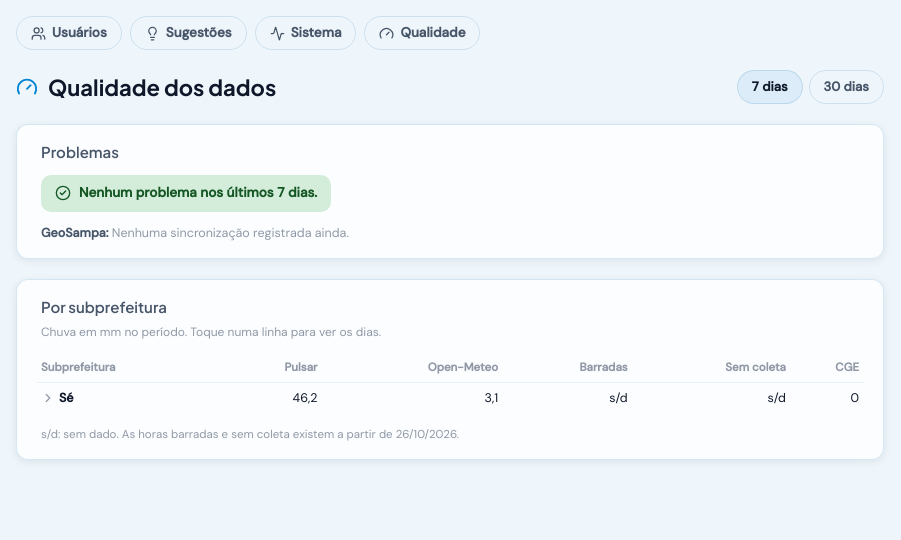
Test: QualidadeAdminPage › abrir a linha mostra os dias, com s/d onde falta dado
This screenshot has width=901, height=540.
Expected: the text "25/10" is not shown
Click the button "Sé" at (57, 398), box top-left (41, 389), bottom-right (74, 408)
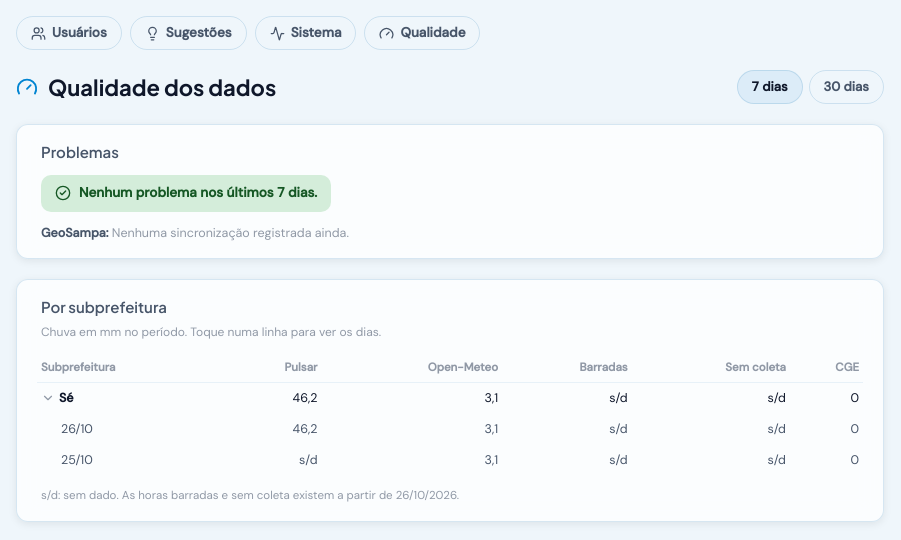
Expected: the text "25/10" is shown, top-left (37, 444), bottom-right (227, 475)
Expected: the text "46,2" is shown 2 times, top-left (227, 382), bottom-right (322, 414); top-left (227, 414), bottom-right (322, 445)
